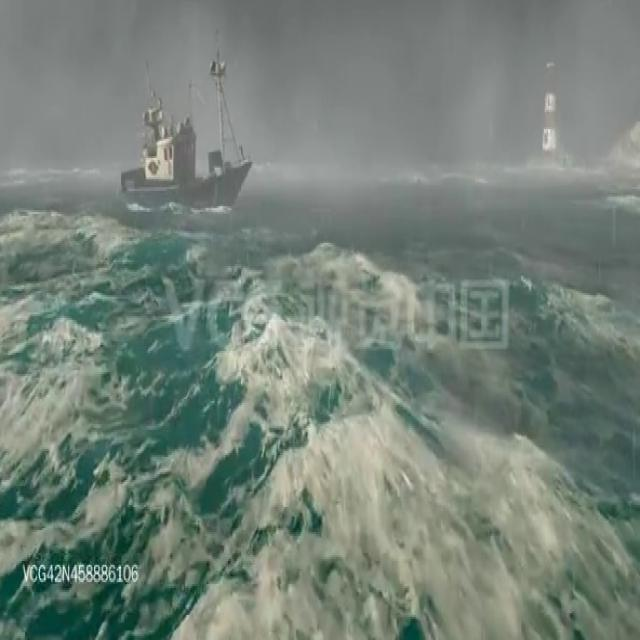fishing boat: (118, 38, 256, 202)
